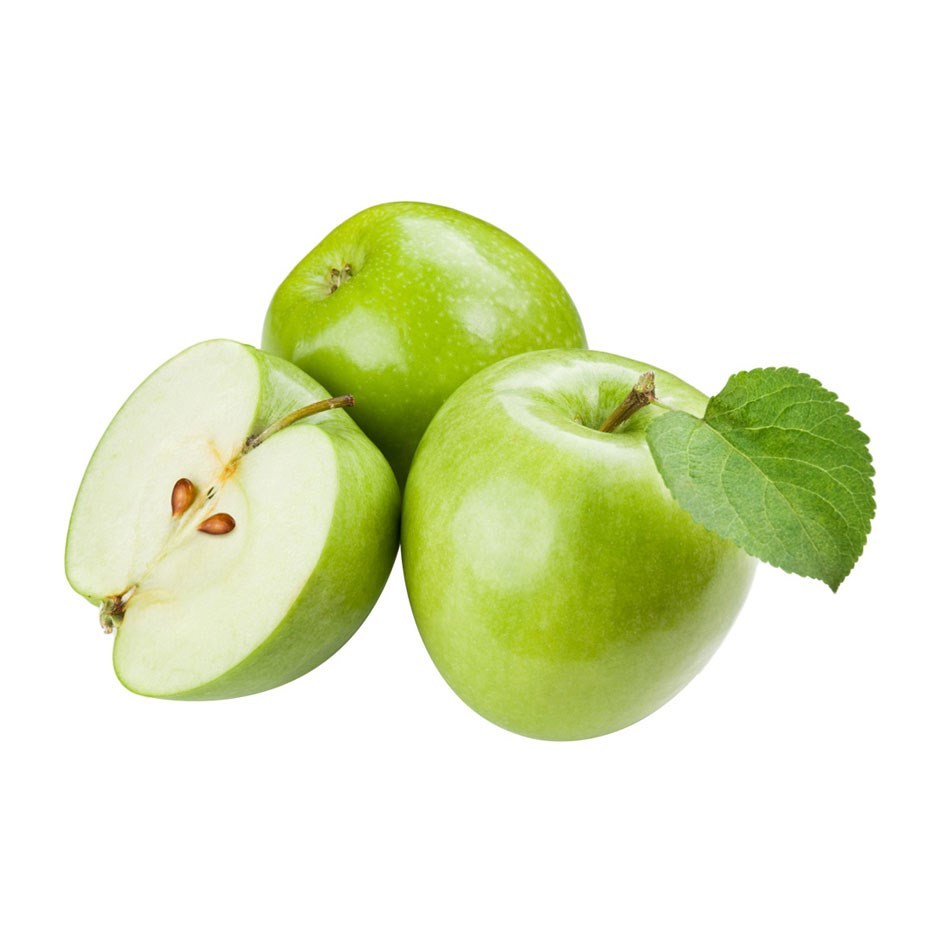apple: (412, 338, 885, 759), (46, 334, 396, 703)
